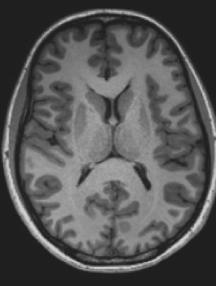Normal_Brain: (1, 1, 216, 286), (21, 1, 216, 166), (11, 161, 25, 193)
